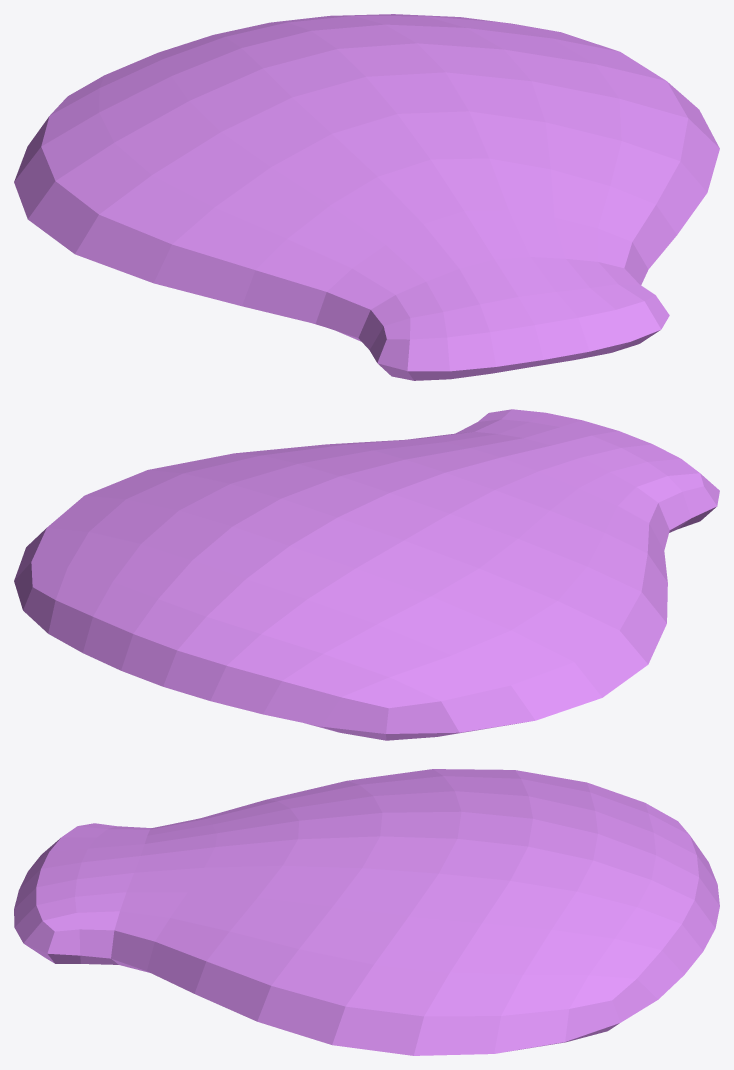
File: shell2.fbx
3 renders of one model, top to bottom at view 1: azimuth 30°, elevation 25°; view 2: azimuth 150°, elevation 25°; view 3: azimuth 270°, elevation 25°, orthographic. The views are drawn at different scales.
Visible parts, largest first — view 1: shell2; view 2: shell2; view 3: shell2.
Boxes of the visible parts, left/top/right/bottom form: shell2: left=14, top=14, right=719, bottom=380; shell2: left=14, top=409, right=719, bottom=740; shell2: left=14, top=769, right=719, bottom=1055.
Bounding box in the file's own units: 12.36 × 2.14 × 13.61.
